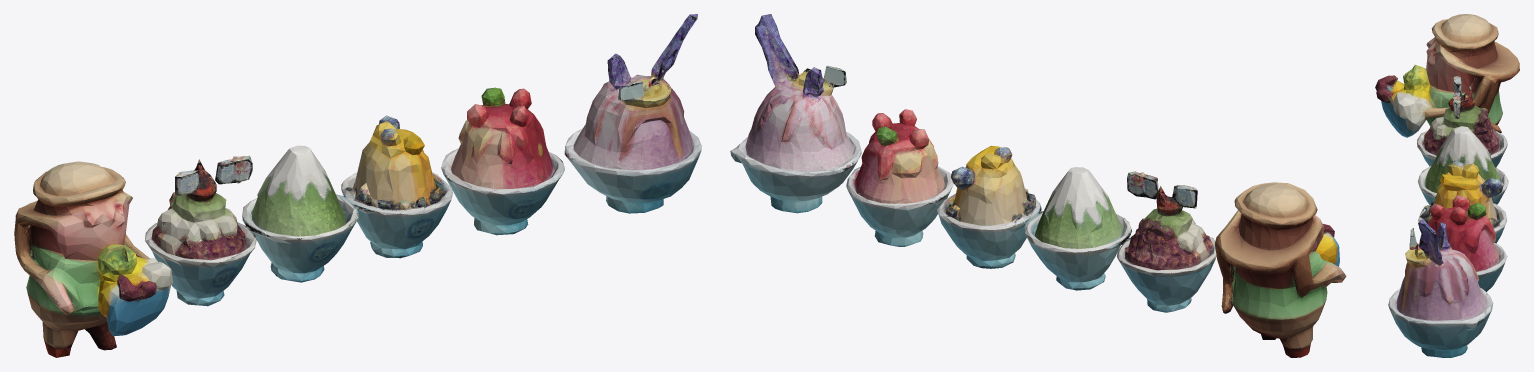
The model's file is COMMON_사물_feature_graphic.glb.
The picture shows the model from 3 angles, left to right: view 1: azimuth 30°, elevation 25°; view 2: azimuth 150°, elevation 25°; view 3: azimuth 270°, elevation 25°; orthographic projection. The views are drawn at different scales.
Visible parts, largest first — view 1: world; view 2: world; view 3: world.
Boxes of the visible parts, box(x1,y1,x2,y2) form: world: box(14, 14, 701, 357); world: box(730, 14, 1346, 357); world: box(1375, 14, 1519, 357).
Bounding box in the file's own units: 1 × 0.305 × 0.2464.
Materials: 1 (1 with a texture image).
